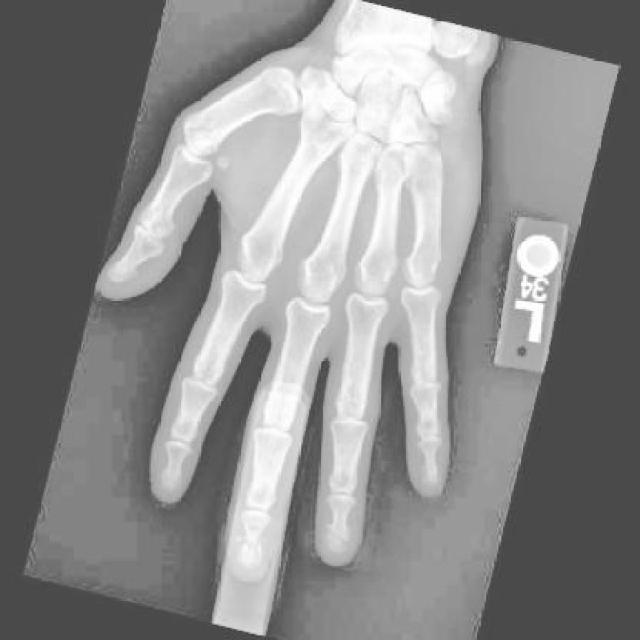Fracture: (231, 529, 268, 568), (320, 522, 354, 556)
